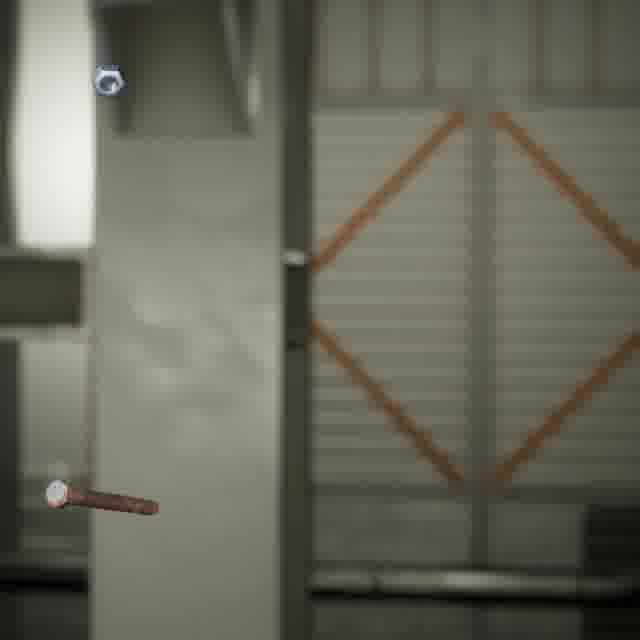bolt: (41, 474, 163, 519)
nut: (87, 60, 130, 101)
